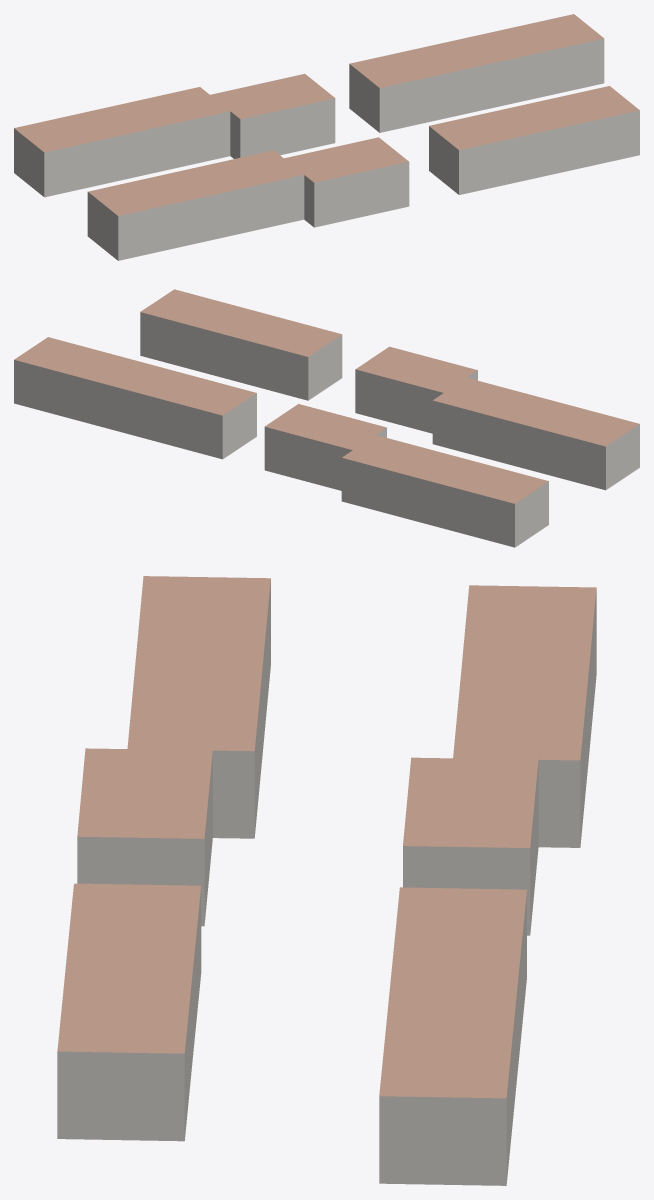
Rendered from gridID_113.dae.
The picture shows the model from 3 angles, top to bottom: view 1: azimuth 30°, elevation 25°; view 2: azimuth 150°, elevation 25°; view 3: azimuth 270°, elevation 25°; orthographic projection. The views are drawn at different scales.
Parts seen in each view (by area): view 1: model_gridID_113_r6179399, model_gridID_113_r6179394, model_gridID_113_r6179393, model_gridID_113_r6179396_001, model_gridID_113_r6179402, model_gridID_113_r6179407, model_gridID_113_r6179391, model_gridID_113_r6179393_001, model_gridID_113_r6179396, model_gridID_113_r6179410; view 2: model_gridID_113_r6179399, model_gridID_113_r6179396_001, model_gridID_113_r6179393, model_gridID_113_r6179394, model_gridID_113_r6179402, model_gridID_113_r6179396, model_gridID_113_r6179393_001, model_gridID_113_r6179410, model_gridID_113_r6179407, model_gridID_113_r6179391; view 3: model_gridID_113_r6179394, model_gridID_113_r6179410, model_gridID_113_r6179407, model_gridID_113_r6179391, model_gridID_113_r6179396, model_gridID_113_r6179393_001, model_gridID_113_r6179399, model_gridID_113_r6179396_001, model_gridID_113_r6179393, model_gridID_113_r6179402.
Boxes of the visible parts, x1,y1,x2,y2 form: model_gridID_113_r6179399: (349, 39, 491, 132); model_gridID_113_r6179394: (462, 14, 604, 107); model_gridID_113_r6179393: (87, 171, 211, 260); model_gridID_113_r6179396_001: (14, 107, 137, 197); model_gridID_113_r6179402: (429, 106, 549, 194); model_gridID_113_r6179407: (284, 137, 409, 227); model_gridID_113_r6179391: (210, 74, 335, 158); model_gridID_113_r6179393_001: (181, 150, 304, 240); model_gridID_113_r6179396: (107, 87, 230, 176); model_gridID_113_r6179410: (520, 86, 639, 174); model_gridID_113_r6179399: (118, 365, 256, 459); model_gridID_113_r6179396_001: (428, 458, 548, 547); model_gridID_113_r6179393: (519, 401, 639, 490); model_gridID_113_r6179394: (14, 337, 151, 431); model_gridID_113_r6179402: (224, 312, 342, 400); model_gridID_113_r6179396: (341, 435, 461, 524); model_gridID_113_r6179393_001: (432, 378, 552, 466); model_gridID_113_r6179410: (140, 289, 257, 377); model_gridID_113_r6179407: (355, 346, 477, 433); model_gridID_113_r6179391: (264, 404, 386, 490); model_gridID_113_r6179394: (379, 992, 516, 1185); model_gridID_113_r6179410: (57, 967, 192, 1141); model_gridID_113_r6179407: (77, 748, 212, 926); model_gridID_113_r6179391: (403, 757, 538, 935); model_gridID_113_r6179396: (453, 672, 588, 847); model_gridID_113_r6179393_001: (127, 662, 262, 838); model_gridID_113_r6179399: (389, 887, 526, 1080); model_gridID_113_r6179396_001: (461, 585, 596, 758); model_gridID_113_r6179393: (135, 576, 270, 748); model_gridID_113_r6179402: (65, 883, 201, 1054).
Bounding box in the file's own units: 96.03 × 41.89 × 7.5.
